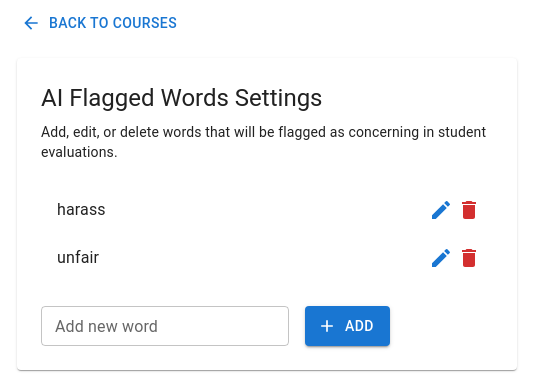
Scenario: Settings: flagged words › deletes a word by its position and shows the list the server returns
Expected: the text "harass" is shown, [57,200,106,219]
Click the 3rd button at (469, 210), box [449,190,489,230]
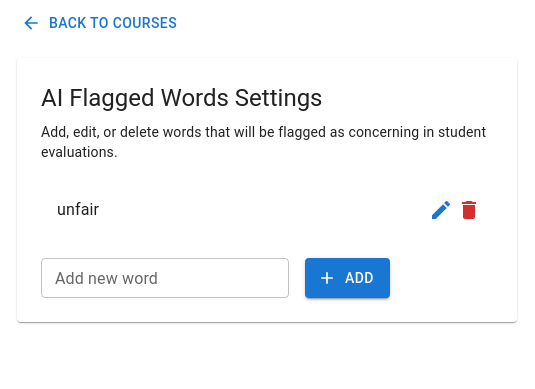
Expected: the text "unfair" is shown, [57,200,99,219]
Expected: the text "harass" is gone
